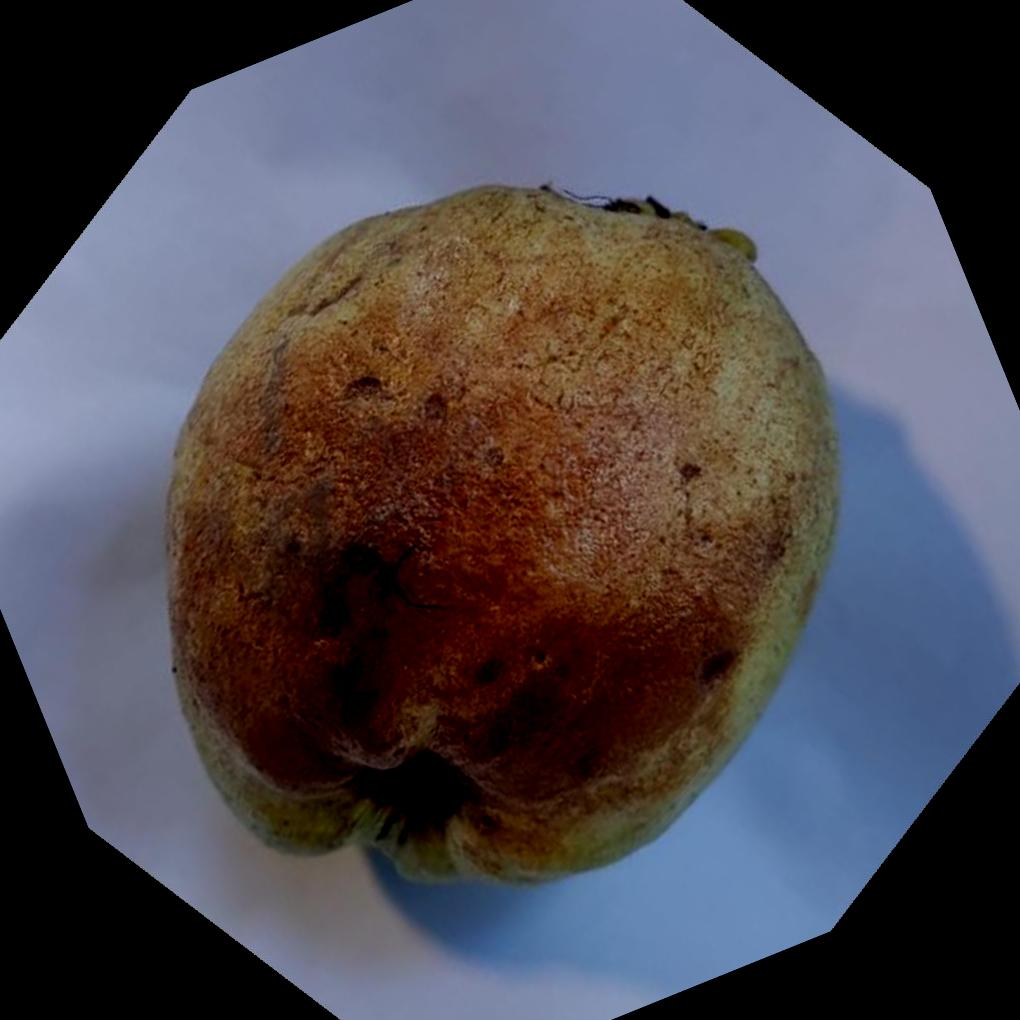FreshOrange: (163, 183, 844, 891)
